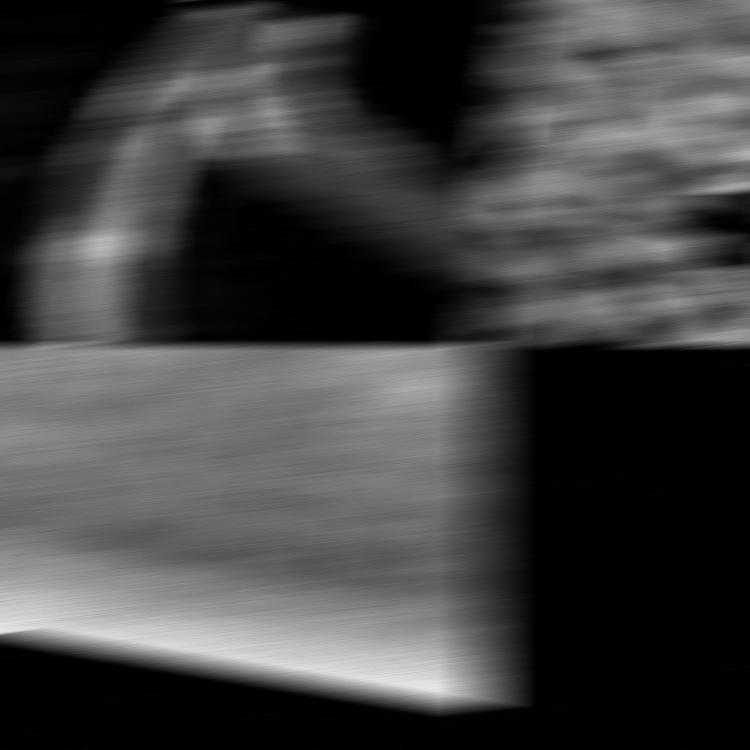AirbagV2: (0, 346, 499, 721), (0, 1, 499, 344), (475, 1, 750, 344)
